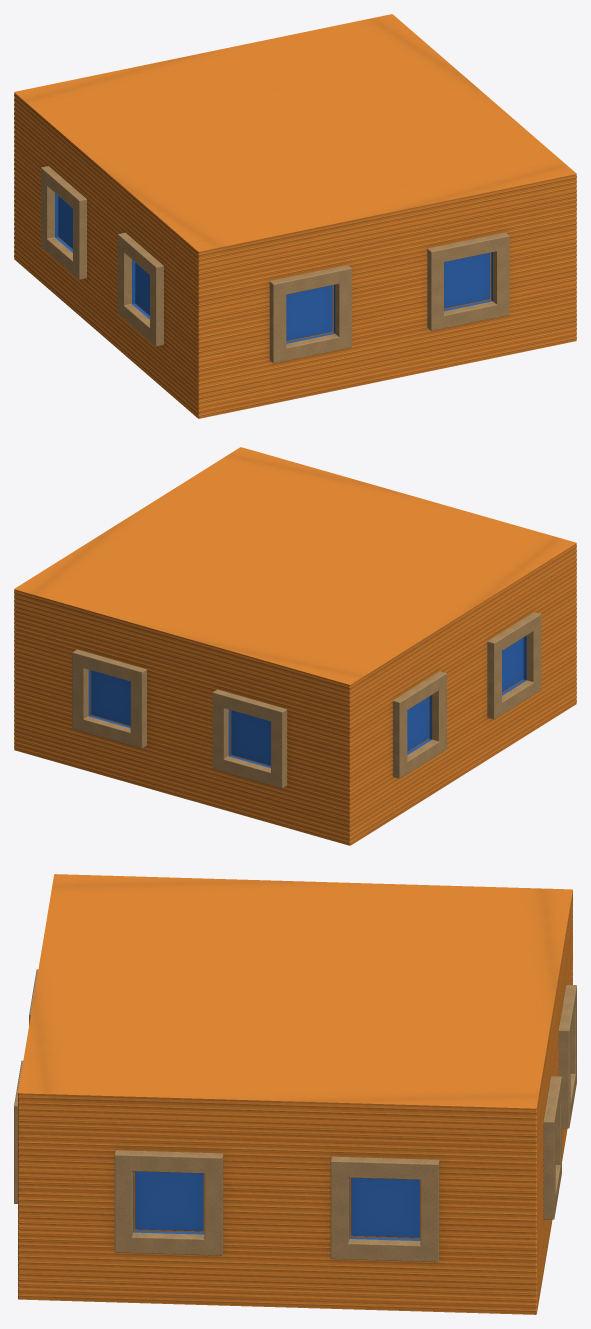
Rendered from 5-orange-pad.fbx.
The picture shows the model from 3 angles, top to bottom: view 1: azimuth 30°, elevation 25°; view 2: azimuth 150°, elevation 25°; view 3: azimuth 270°, elevation 25°; orthographic projection. The views are drawn at different scales.
Visible parts, largest first — view 1: orange-pad; view 2: orange-pad; view 3: orange-pad.
Part boxes in pixels (x1,y1,x2,y2): orange-pad: [14, 14, 576, 418]; orange-pad: [14, 447, 576, 845]; orange-pad: [14, 874, 576, 1314].
Bounding box in the file's own units: 7794 × 3150 × 7794.
Materials: 1 (1 with a texture image).
